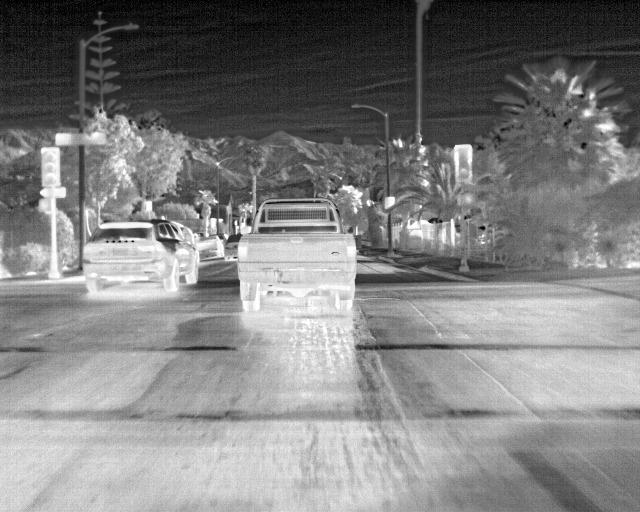car: (235, 196, 357, 314), (81, 218, 200, 294), (200, 235, 224, 261), (225, 235, 240, 262)
